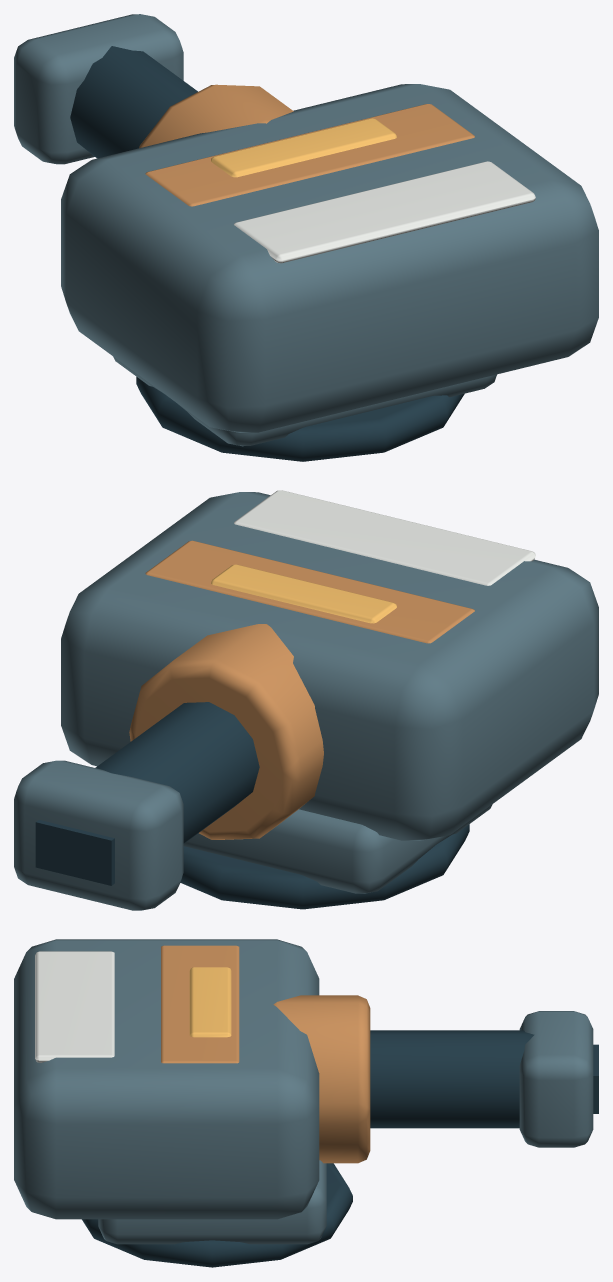
File: cannon.glb
The picture shows the model from 3 angles, top to bottom: view 1: azimuth 30°, elevation 25°; view 2: azimuth 150°, elevation 25°; view 3: azimuth 270°, elevation 25°; orthographic projection. The views are drawn at different scales.
Visible parts, largest first — view 1: WeaponArmor, RotationBearing; view 2: WeaponArmor, RotationBearing; view 3: WeaponArmor, RotationBearing.
Boxes of the visible parts, box(x1,y1,x2,y2) form: WeaponArmor: box(14, 14, 598, 446); RotationBearing: box(136, 377, 464, 461); WeaponArmor: box(14, 490, 598, 910); RotationBearing: box(180, 824, 469, 909); WeaponArmor: box(14, 939, 598, 1244); RotationBearing: box(82, 1163, 352, 1267).
Size of the model in its own units: 1.1 by 0.6705 by 1.67.
